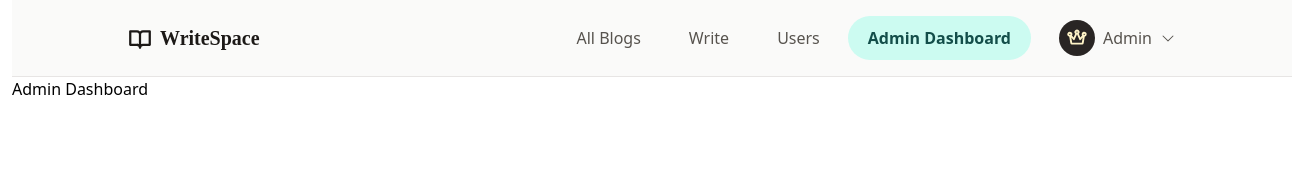
Test case: guards and navigation › keeps the session and shows an error if logout storage removal fails
Click the button with aria-label "Account: Admin" at (1118, 38), box x1=1039 y1=12 x2=1196 y2=64
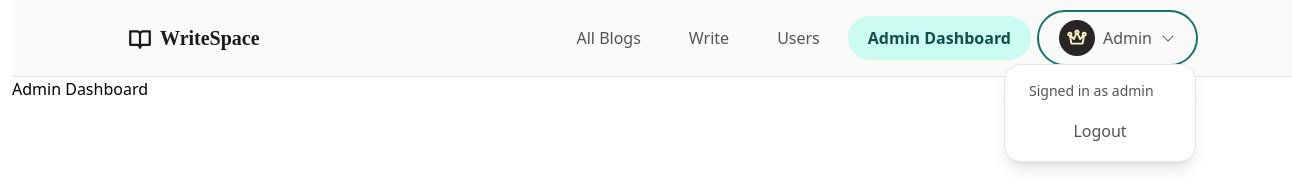
Click the button "Logout" at (1100, 131), box x1=1013 y1=109 x2=1187 y2=153
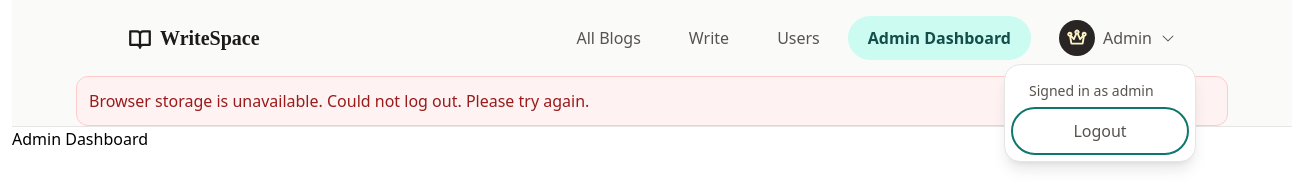
Expected: the heading "Admin Dashboard" is shown, x1=12 y1=128 x2=148 y2=150
Result: the message shows "Could not log out" at x1=89 y1=90 x2=589 y2=112
